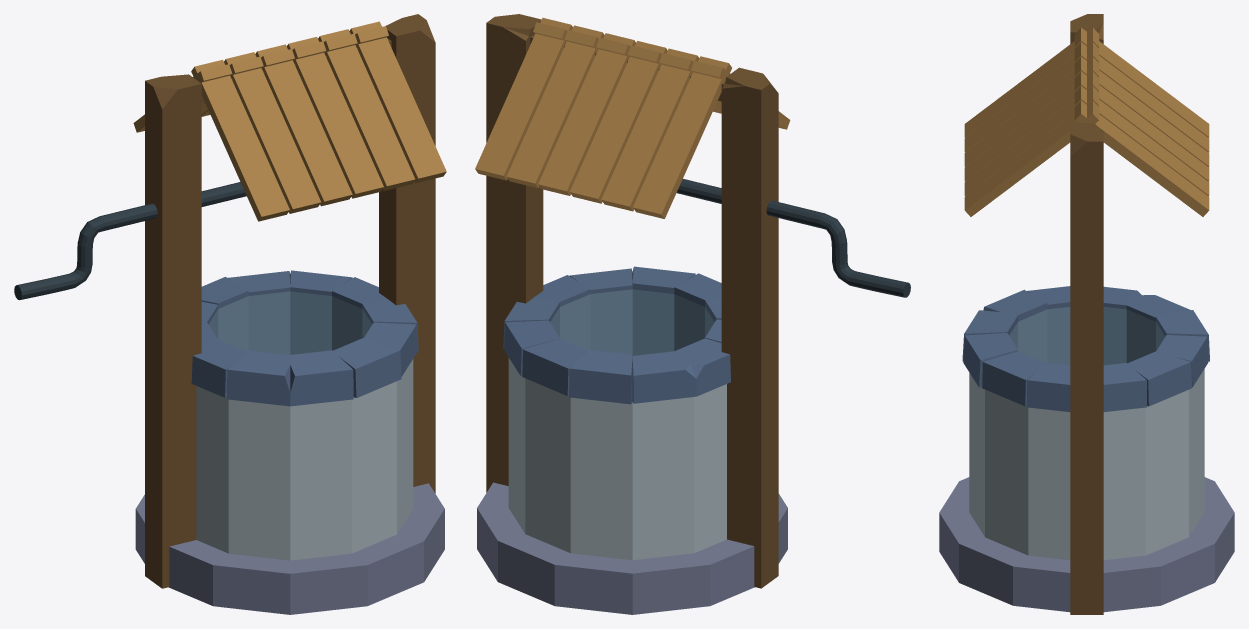
Rendered from mod_BG_Puits.fbx.
The picture shows the model from 3 angles, left to right: view 1: azimuth 30°, elevation 25°; view 2: azimuth 150°, elevation 25°; view 3: azimuth 270°, elevation 25°; orthographic projection. The views are drawn at different scales.
Visible parts, largest first — view 1: Puits; view 2: Puits; view 3: Puits.
Boxes of the visible parts, left/top/right/bottom form: Puits: left=14, top=14, right=446, bottom=614; Puits: left=475, top=14, right=910, bottom=614; Puits: left=939, top=14, right=1234, bottom=614.
Size of the model in its own units: 62.15 by 73.02 by 40.62.
